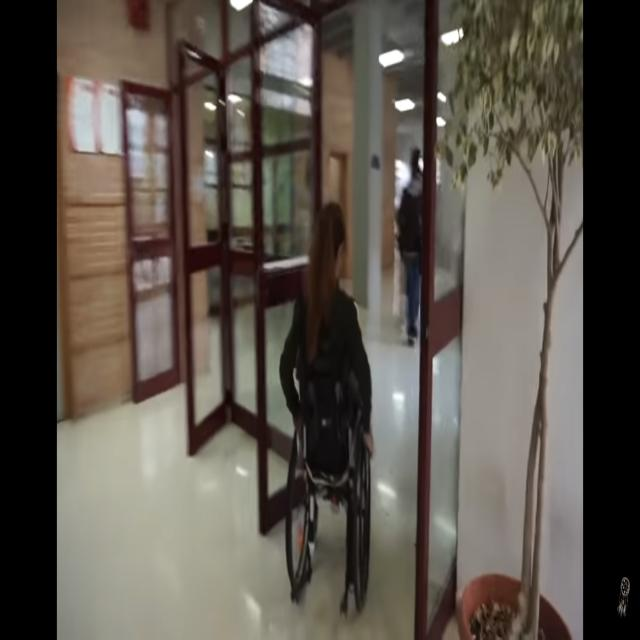wheelchairs: (283, 348, 374, 624)
